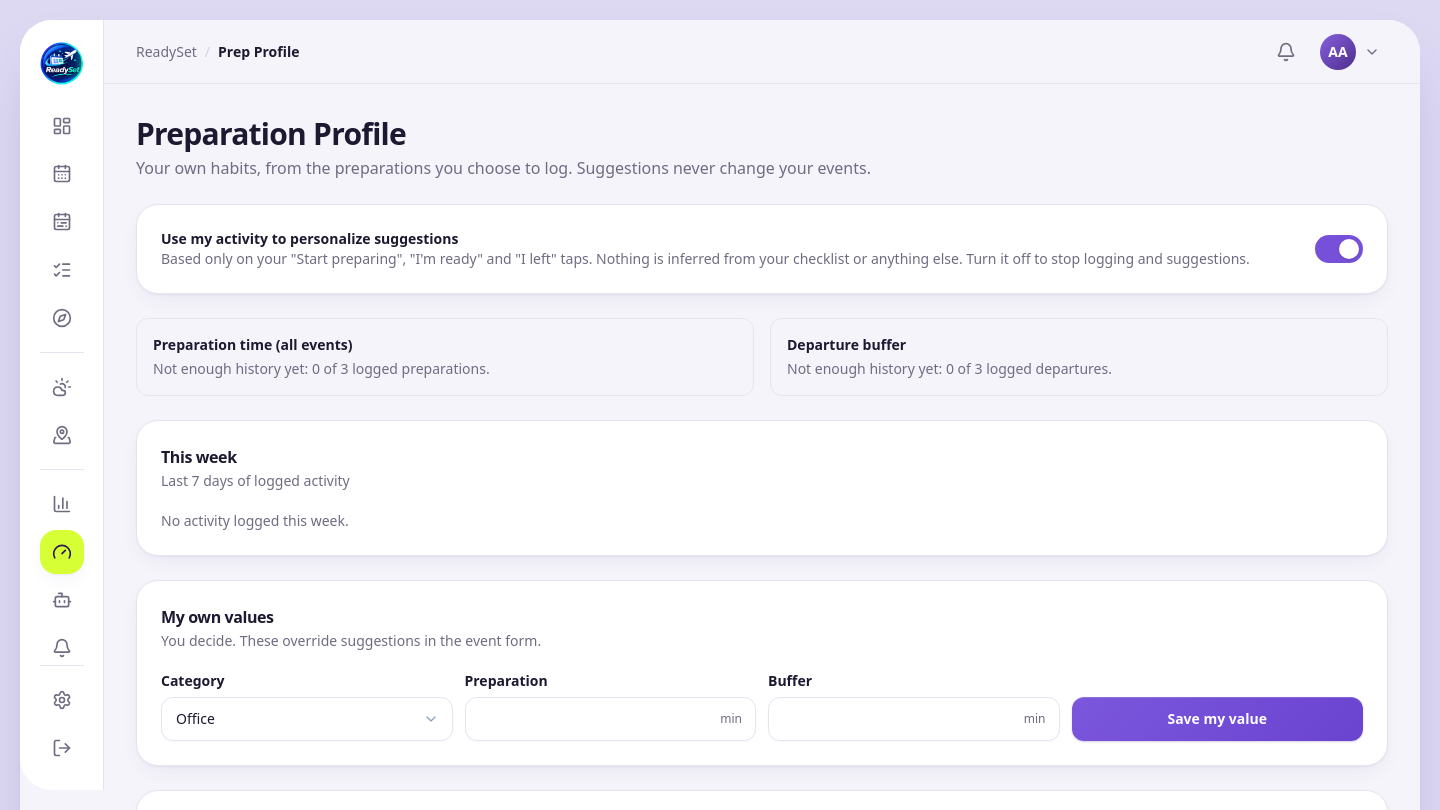
Test: Preparation Profile page › can be turned off and on
The image size is (1440, 810).
Click the switch named "Use my activity to personalize suggestions" at (1339, 249), box [1315,235,1363,263]
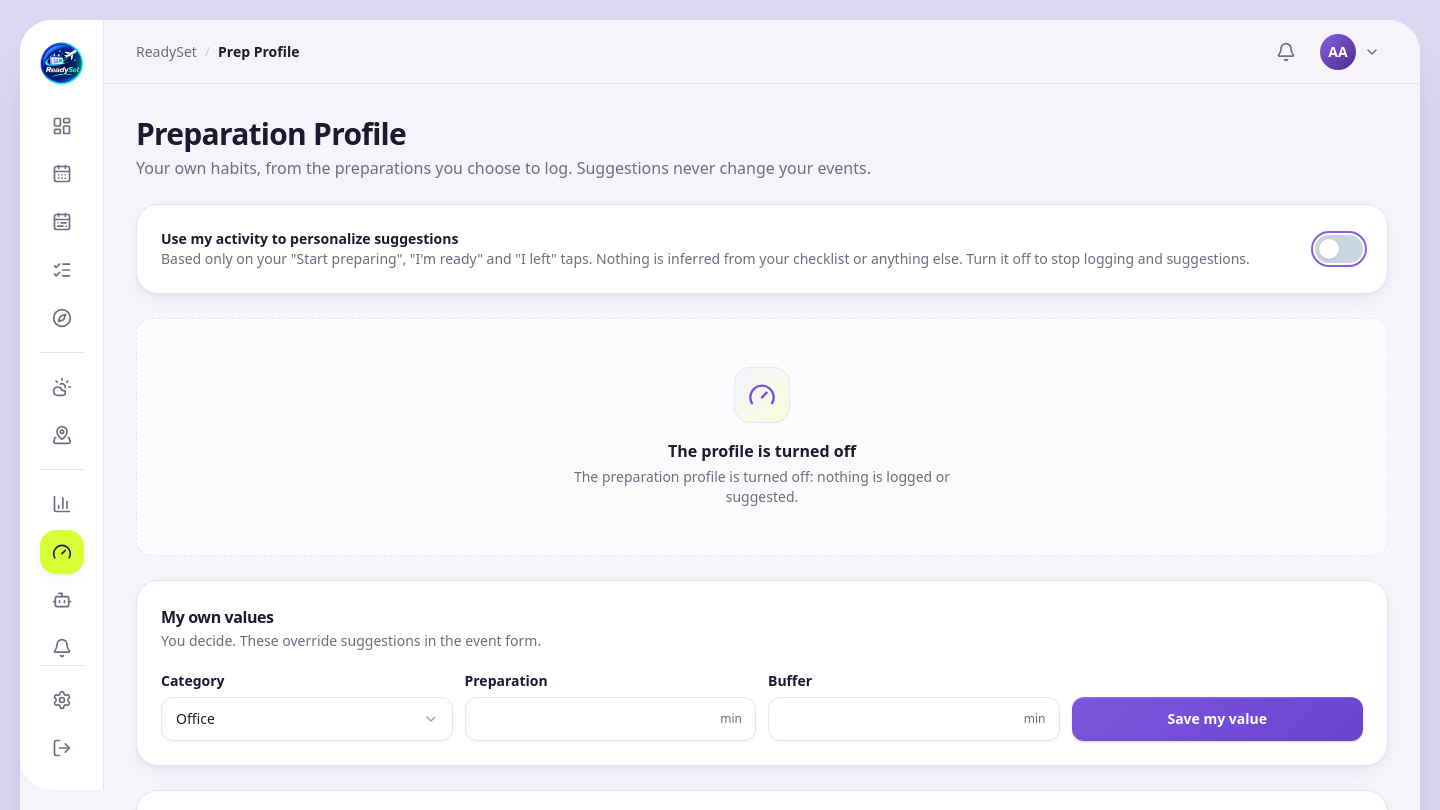
expect the heading "The profile is turned off" is shown: met, box [668,439,856,463]
expect the heading "Preparation time (all events)" is gone: met
